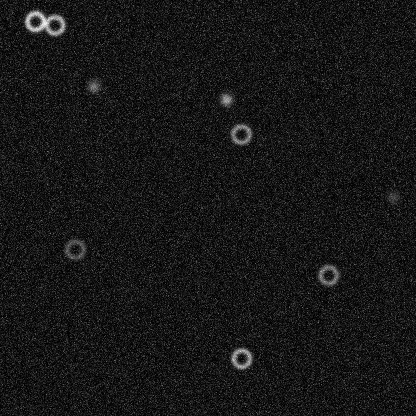Ring: (229, 346, 253, 370), (42, 12, 66, 36), (62, 237, 86, 261), (316, 262, 340, 286), (228, 122, 252, 146), (23, 9, 47, 33)
Spot: (85, 78, 101, 94), (218, 91, 234, 107), (384, 189, 400, 205)
